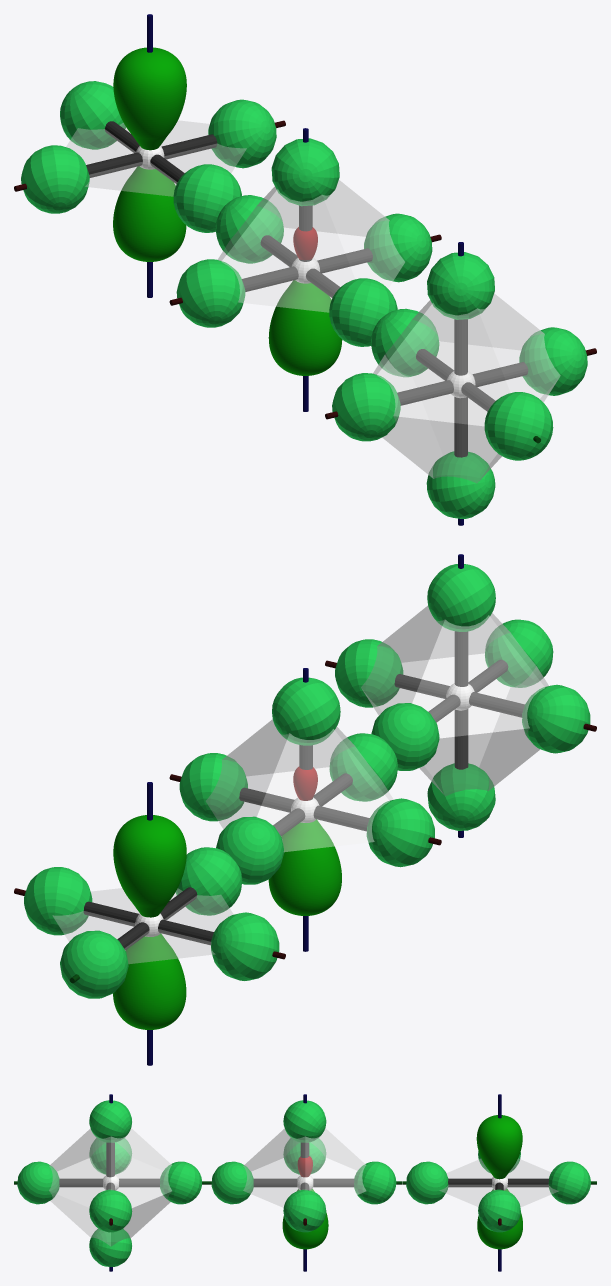
The model's file is hibridaciones_sp3d2.obj.
3 views of the same model, one above another, from view 1: azimuth 30°, elevation 25°; view 2: azimuth 150°, elevation 25°; view 3: azimuth 270°, elevation 25° (orthographic). The views are drawn at different scales.
Visible parts, largest first — view 1: Solid_Solid.022, Solid.001_Solid.023, Sphere.001_Sphere.011, Plane, Sphere.003_Sphere.009, Sphere.000_Sphere.010, ShapeCylinder.003_ShapeCylinder.014, ShapeCylinder.016_ShapeCylinder.029, ShapeCylinder.007_ShapeCylinder.010, ShapeCylinder.014_ShapeCylinder.027, ShapeCylinder.004_ShapeCylinder.024, ShapeCylinder.008_ShapeCylinder.015 (+9 smaller); view 2: Solid_Solid.022, Solid.001_Solid.023, Sphere.001_Sphere.011, Plane, Sphere.003_Sphere.009, Sphere.000_Sphere.010, ShapeCylinder.004_ShapeCylinder.024, ShapeCylinder.014_ShapeCylinder.027, ShapeCylinder.003_ShapeCylinder.014, ShapeCylinder.016_ShapeCylinder.029, ShapeCylinder.007_ShapeCylinder.010, ShapeCylinder.008_ShapeCylinder.015 (+10 smaller); view 3: Solid_Solid.022, Solid.001_Solid.023, Plane, Sphere.003_Sphere.009, ShapeCylinder.002_ShapeCylinder.007, ShapeCylinder.010_ShapeCylinder.016, ShapeCylinder.009_ShapeCylinder.026, ShapeCylinder.001_ShapeCylinder.006, ShapeCylinder.011_ShapeCylinder.017, ShapeCylinder.005_ShapeCylinder.025, ShapeCylinder.004_ShapeCylinder.024, ShapeCylinder.000_ShapeCylinder.005 (+9 smaller).
Part boxes in pixels (left/top/right/bottom): Solid_Solid.022: left=373, top=293, right=560, bottom=483; Solid.001_Solid.023: left=218, top=180, right=404, bottom=312; Sphere.001_Sphere.011: left=268, top=227, right=342, bottom=375; Plane: left=66, top=120, right=246, bottom=196; Sphere.003_Sphere.009: left=113, top=47, right=186, bottom=150; Sphere.000_Sphere.010: left=113, top=166, right=186, bottom=261; ShapeCylinder.003_ShapeCylinder.014: left=21, top=145, right=142, bottom=213; ShapeCylinder.016_ShapeCylinder.029: left=332, top=373, right=453, bottom=441; ShapeCylinder.007_ShapeCylinder.010: left=176, top=259, right=298, bottom=327; ShapeCylinder.014_ShapeCylinder.027: left=426, top=397, right=495, bottom=518; ShapeCylinder.004_ShapeCylinder.024: left=427, top=252, right=494, bottom=375; ShapeCylinder.008_ShapeCylinder.015: left=161, top=99, right=276, bottom=168; Solid_Solid.022: left=361, top=606, right=548, bottom=796; Solid.001_Solid.023: left=206, top=719, right=393, bottom=851; Sphere.001_Sphere.011: left=268, top=767, right=341, bottom=915; Plane: left=53, top=888, right=233, bottom=963; Sphere.003_Sphere.009: left=113, top=815, right=186, bottom=917; Sphere.000_Sphere.010: left=113, top=933, right=186, bottom=1029; ShapeCylinder.004_ShapeCylinder.024: left=427, top=564, right=495, bottom=686; ShapeCylinder.014_ShapeCylinder.027: left=427, top=709, right=495, bottom=830; ShapeCylinder.003_ShapeCylinder.014: left=158, top=912, right=279, bottom=980; ShapeCylinder.016_ShapeCylinder.029: left=469, top=684, right=590, bottom=753; ShapeCylinder.007_ShapeCylinder.010: left=313, top=798, right=434, bottom=867; ShapeCylinder.008_ShapeCylinder.015: left=24, top=867, right=138, bottom=935; Solid_Solid.022: left=49, top=1128, right=171, bottom=1246; Solid.001_Solid.023: left=243, top=1128, right=365, bottom=1207; Plane: left=440, top=1158, right=558, bottom=1207; Sphere.003_Sphere.009: left=476, top=1115, right=522, bottom=1179; ShapeCylinder.002_ShapeCylinder.007: left=211, top=1161, right=297, bottom=1204; ShapeCylinder.010_ShapeCylinder.016: left=406, top=1161, right=491, bottom=1204; ShapeCylinder.009_ShapeCylinder.026: left=17, top=1161, right=102, bottom=1204; ShapeCylinder.001_ShapeCylinder.006: left=313, top=1161, right=396, bottom=1204; ShapeCylinder.011_ShapeCylinder.017: left=507, top=1161, right=590, bottom=1204; ShapeCylinder.005_ShapeCylinder.025: left=119, top=1161, right=201, bottom=1204; ShapeCylinder.004_ShapeCylinder.024: left=89, top=1100, right=131, bottom=1177; ShapeCylinder.000_ShapeCylinder.005: left=283, top=1100, right=326, bottom=1176.
Size of the model in its own units: 12.54 by 12.54 by 37.65.
